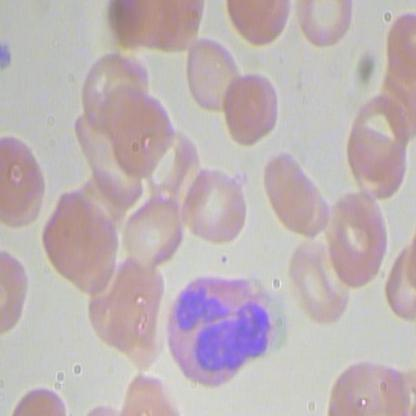Platelets: (1, 36, 16, 71)
RBC: (322, 190, 396, 291), (104, 86, 177, 183), (260, 147, 332, 242), (40, 188, 107, 287), (344, 86, 411, 184), (285, 226, 351, 325), (185, 157, 249, 249), (122, 188, 185, 269), (1, 134, 50, 230), (184, 36, 243, 112), (220, 72, 279, 144), (223, 1, 292, 50), (294, 1, 362, 50), (120, 372, 180, 415)
WBC: (160, 256, 284, 389)
